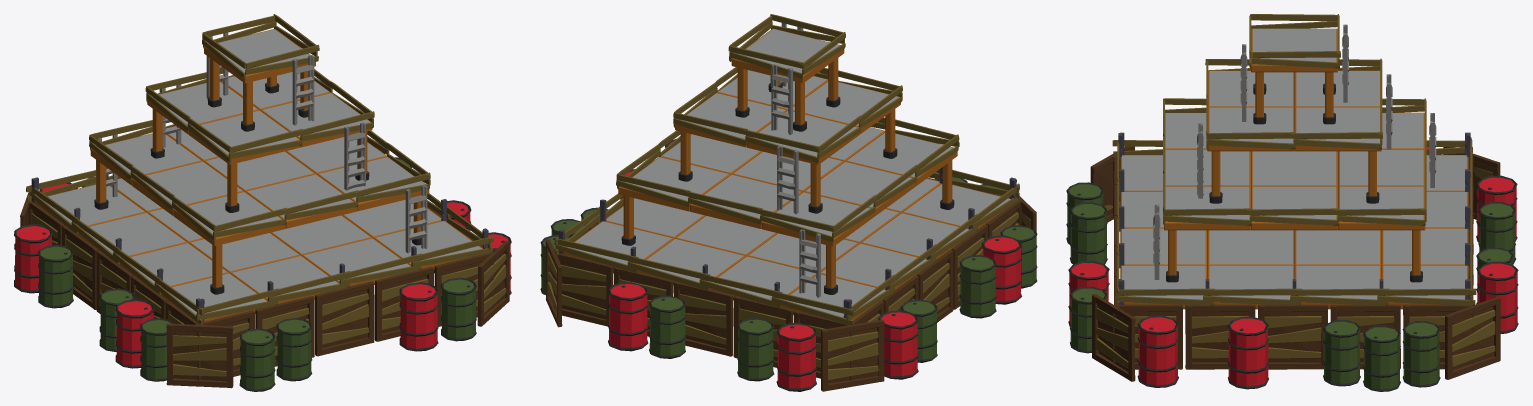
The model's file is BigBunkerOneMaterial.fbx.
The picture shows the model from 3 angles, left to right: view 1: azimuth 30°, elevation 25°; view 2: azimuth 150°, elevation 25°; view 3: azimuth 270°, elevation 25°; orthographic projection. The views are drawn at different scales.
Visible parts, largest first — view 1: BigBunker.021; view 2: BigBunker.021; view 3: BigBunker.021.
Part boxes in pixels (x1,y1,x2,y2): BigBunker.021: [14, 14, 511, 391]; BigBunker.021: [540, 14, 1037, 391]; BigBunker.021: [1066, 14, 1518, 391].
Size of the model in its own units: 15.96 by 10.01 by 15.71.
1 material, 1 textured.
